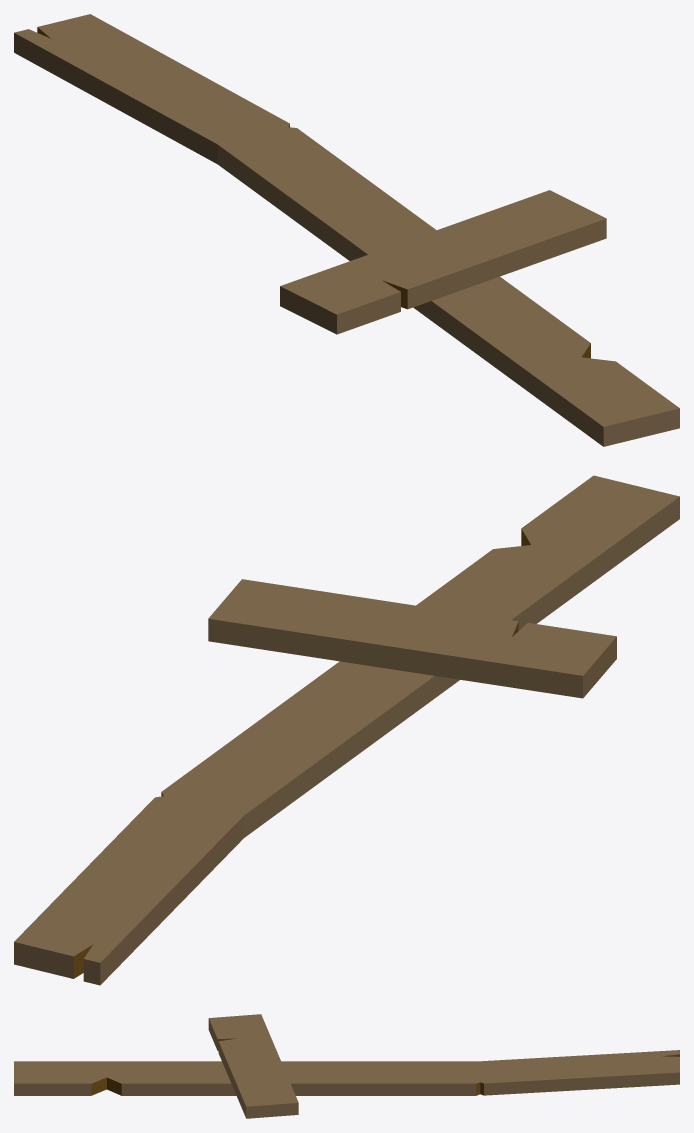
File: Wood_Sword.fbx
3 views of the same model, one above another, from view 1: azimuth 30°, elevation 25°; view 2: azimuth 150°, elevation 25°; view 3: azimuth 270°, elevation 25° (orthographic). The views are drawn at different scales.
Visible parts, largest first — view 1: Obj_Wood_Sword_Starter; view 2: Obj_Wood_Sword_Starter; view 3: Obj_Wood_Sword_Starter.
Part boxes in pixels (x1,y1,x2,y2): Obj_Wood_Sword_Starter: (14, 14, 679, 446); Obj_Wood_Sword_Starter: (14, 475, 679, 985); Obj_Wood_Sword_Starter: (14, 1014, 679, 1118).
Bounding box in the file's own units: 16.45 × 2 × 50.
